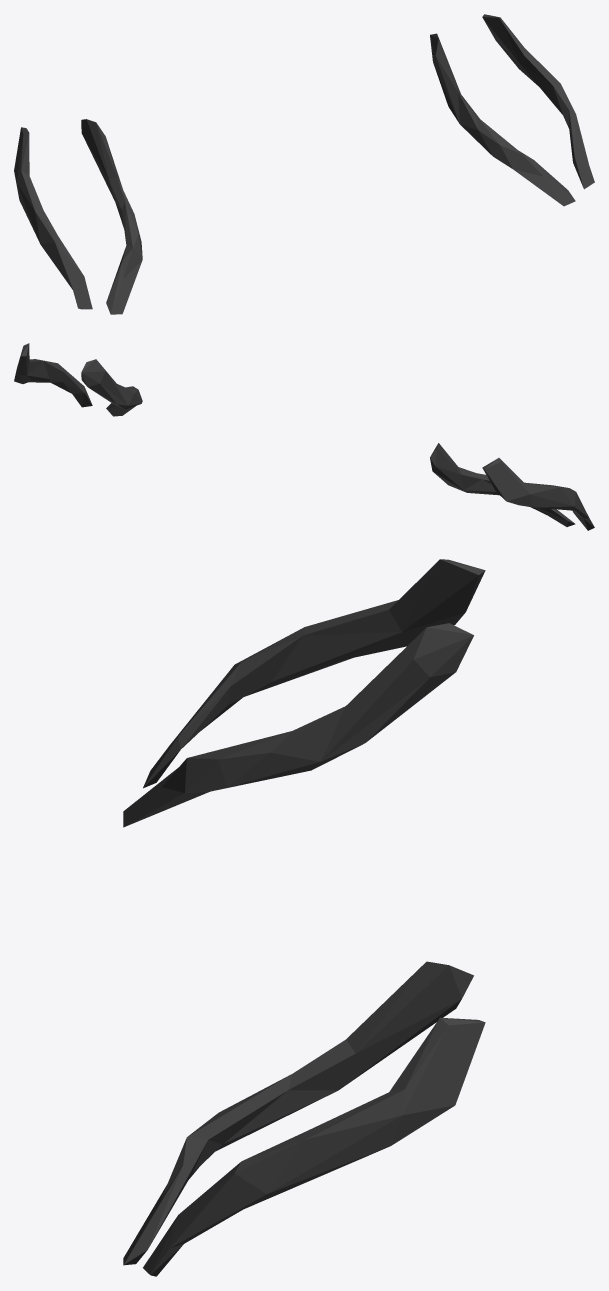
The model's file is tend_extensor_br_HL.glb.
3 renders of one model, top to bottom at view 1: azimuth 30°, elevation 25°; view 2: azimuth 150°, elevation 25°; view 3: azimuth 270°, elevation 25°, orthographic. The views are drawn at different scales.
Visible parts, largest first — view 1: tend_extensor_br_HL; view 2: tend_extensor_br_HL; view 3: tend_extensor_br_HL.
Part boxes in pixels (box(x1,y1,x2,y2)): tend_extensor_br_HL: box(14, 14, 594, 314); tend_extensor_br_HL: box(14, 343, 594, 530); tend_extensor_br_HL: box(123, 559, 485, 1276).
Size of the model in its own units: 0.00584 by 0.00133 by 0.00172.
1 material, 1 textured.
